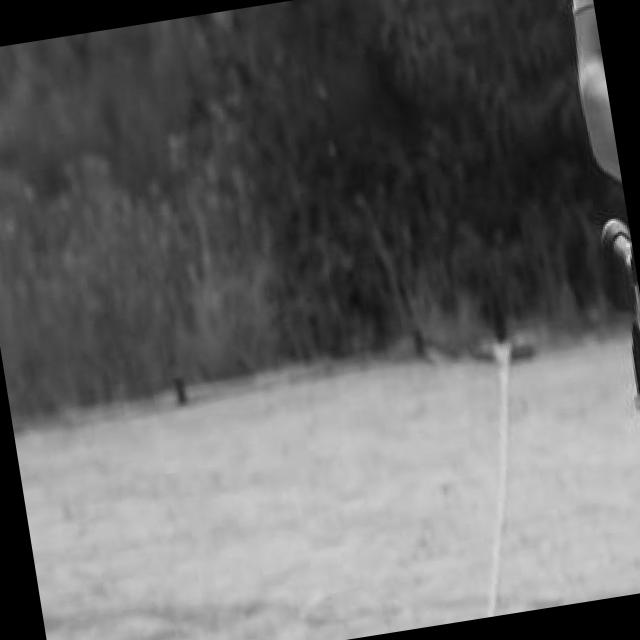Guns: (582, 193, 640, 502)
